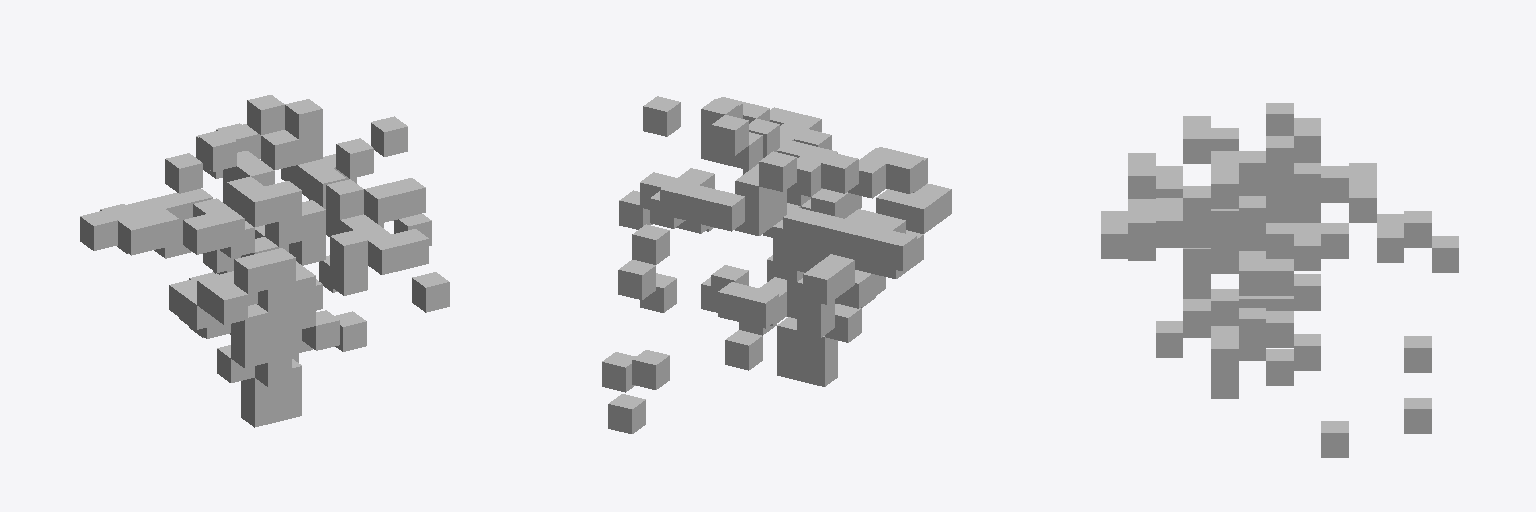
The model's file is Cliff_1-0.obj.
3 views of the same model, side by side, from view 1: azimuth 30°, elevation 25°; view 2: azimuth 150°, elevation 25°; view 3: azimuth 270°, elevation 25° (orthographic).
Parts seen in each view (by area): view 1: object 1; view 2: object 1; view 3: object 1.
Boxes of the visible parts, box(x1,y1,x2,y2) form: object 1: box(80, 95, 449, 427); object 1: box(602, 96, 951, 433); object 1: box(1101, 103, 1458, 457).
Size of the model in its own units: 1.3 by 1.1 by 1.3.